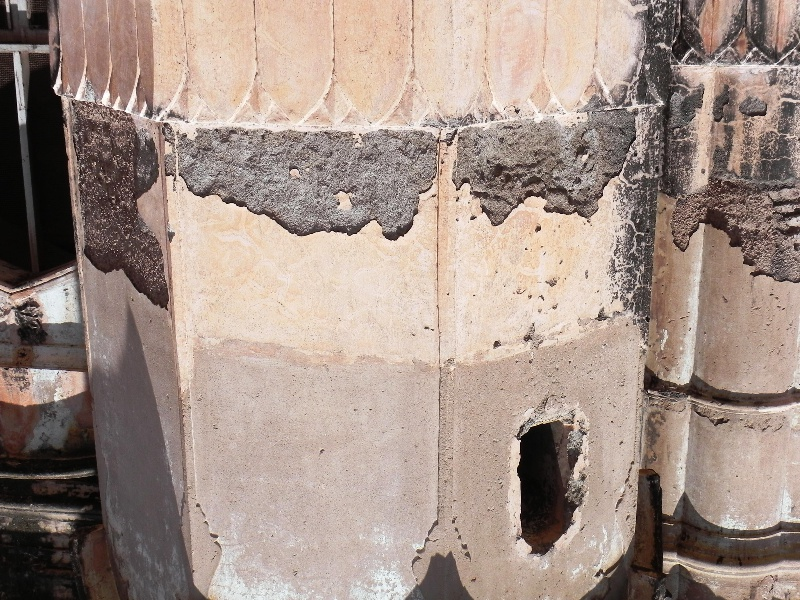Spalling: (182, 111, 645, 242), (64, 95, 180, 317), (670, 152, 800, 287)
